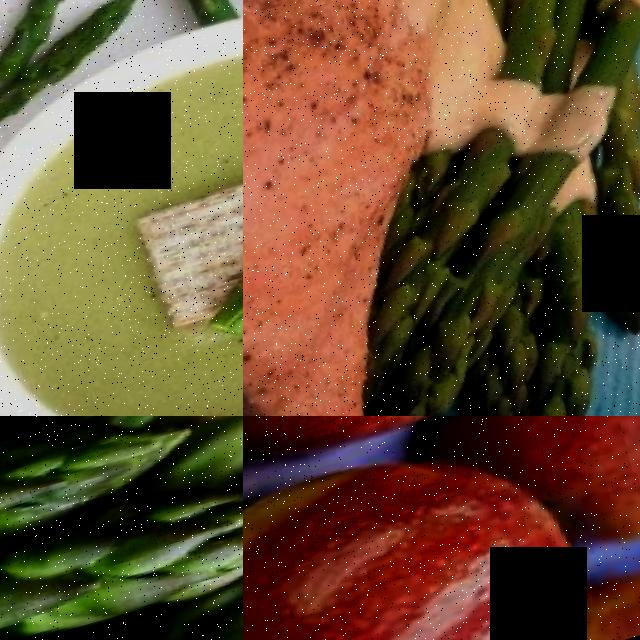apple: (243, 416, 614, 640), (243, 416, 599, 516), (503, 416, 640, 560)
asparagus: (0, 454, 243, 640), (0, 416, 213, 579), (406, 184, 569, 365), (0, 0, 150, 101), (576, 145, 640, 329), (511, 343, 632, 416), (103, 0, 243, 38)
